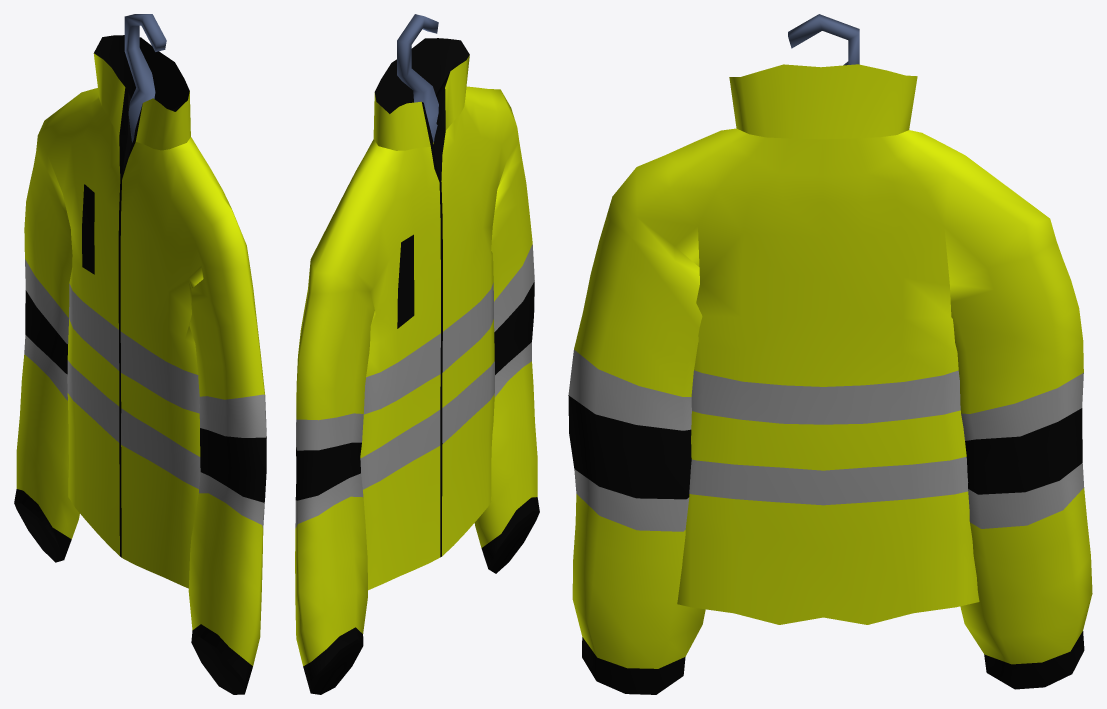
The model's file is special_jacket1.fbx.
3 renders of one model, left to right at view 1: azimuth 30°, elevation 25°; view 2: azimuth 150°, elevation 25°; view 3: azimuth 270°, elevation 25°, orthographic. The views are drawn at different scales.
Visible parts, largest first — view 1: special_jacket1; view 2: special_jacket1; view 3: special_jacket1.
Part boxes in pixels (x1,y1,x2,y2): special_jacket1: (14,14,266,694); special_jacket1: (295,14,539,694); special_jacket1: (568,14,1092,694).
Bounding box in the file's own units: 0.1812 × 2.1 × 1.46.
